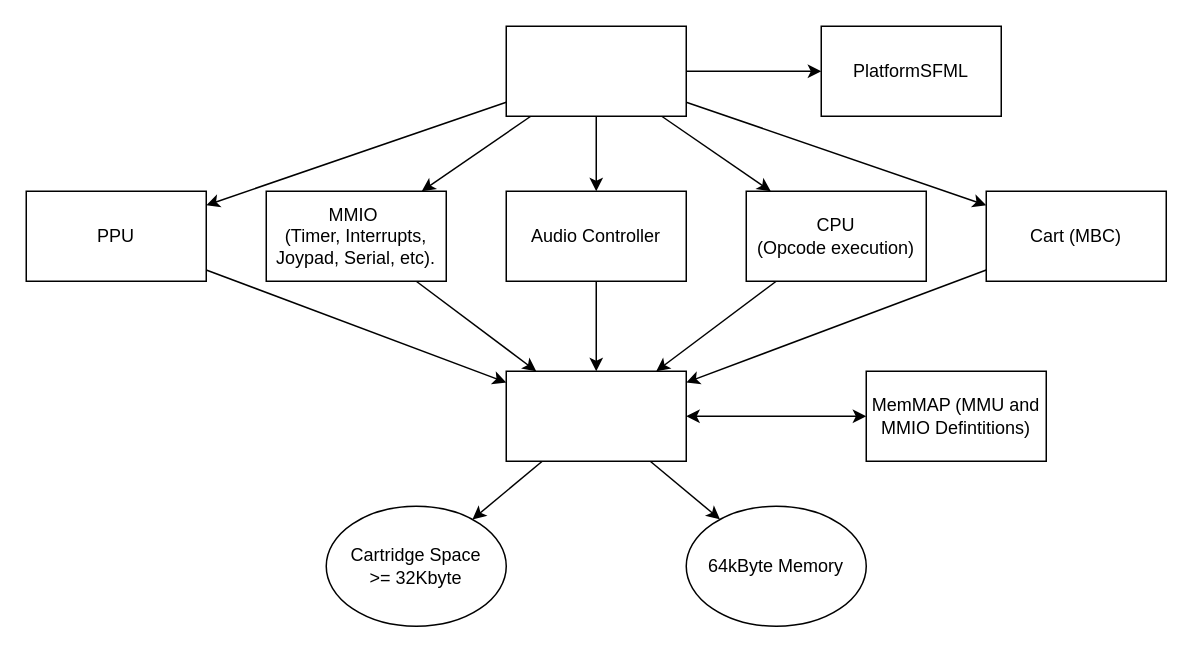
This 1193x653 diagram has some shape labels left out. Each missing label, with the centre of its shape:
"main" goes at (x=595, y=70).
"MMU (Safety checks, special Read/Write Behavior)" goes at (x=595, y=415).
